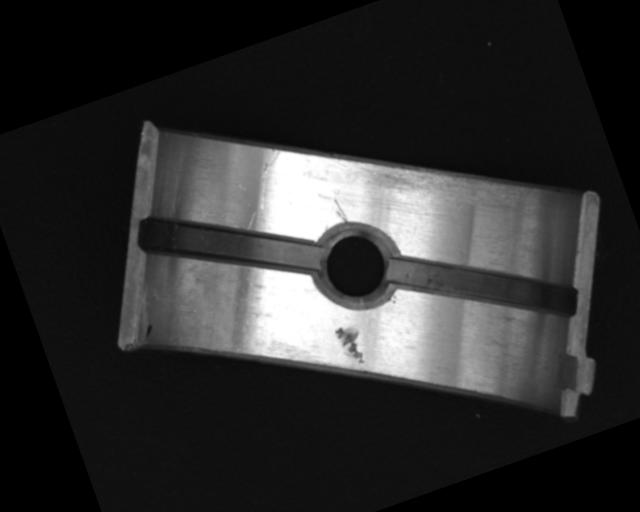blot: (138, 322, 158, 342)
bruise: (332, 322, 367, 369)
gap: (381, 204, 581, 367), (135, 168, 326, 320)
hole: (304, 215, 409, 319)
nick: (241, 148, 298, 213), (330, 196, 348, 225)
scratch: (359, 115, 531, 250)
